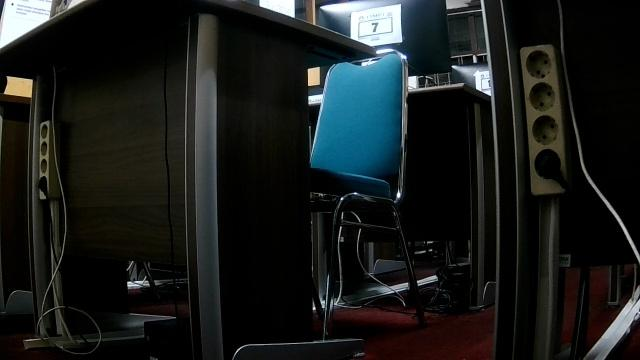AIO PC-Monitor-TV: (317, 0, 452, 89)
Kursi: (307, 48, 427, 345)
